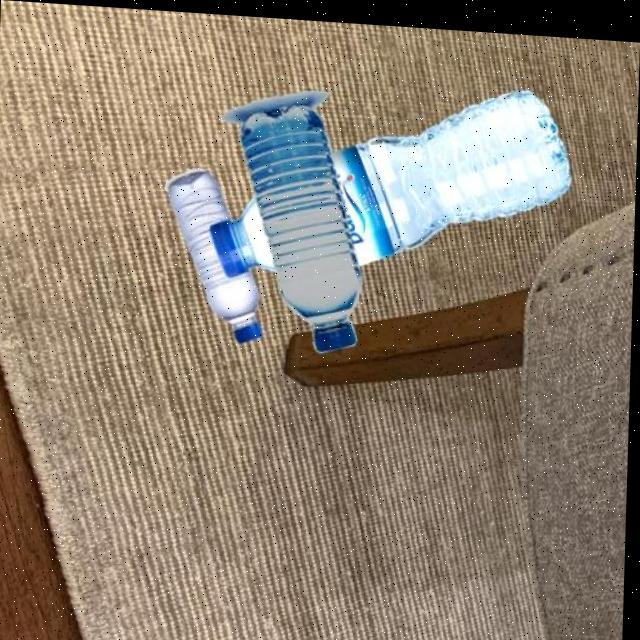bottle: (164, 61, 576, 362), (216, 78, 371, 351), (162, 162, 274, 342)
